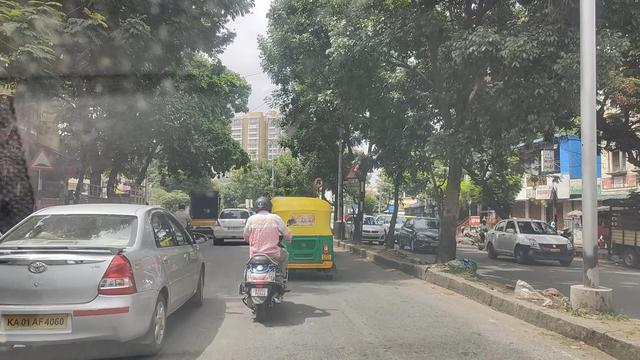LMV: (12, 210, 209, 356), (240, 195, 287, 320), (273, 195, 335, 278)
